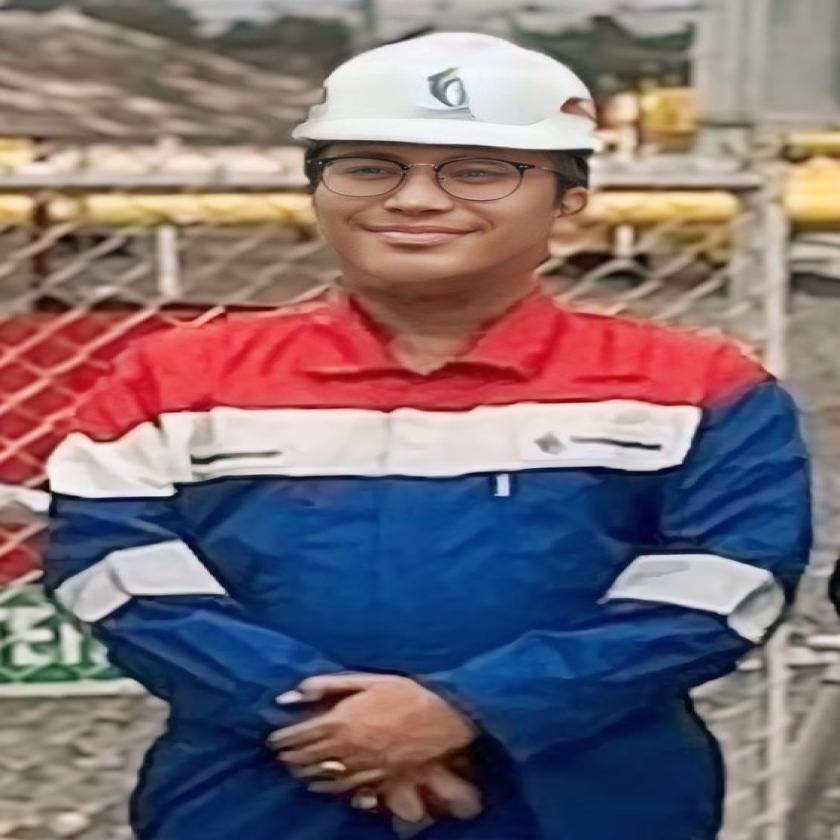Con_casco: (298, 24, 619, 331)
